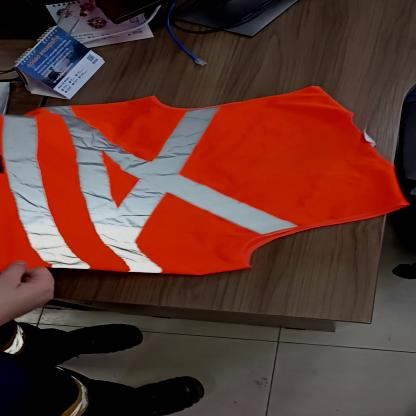colete: (0, 80, 411, 284)
